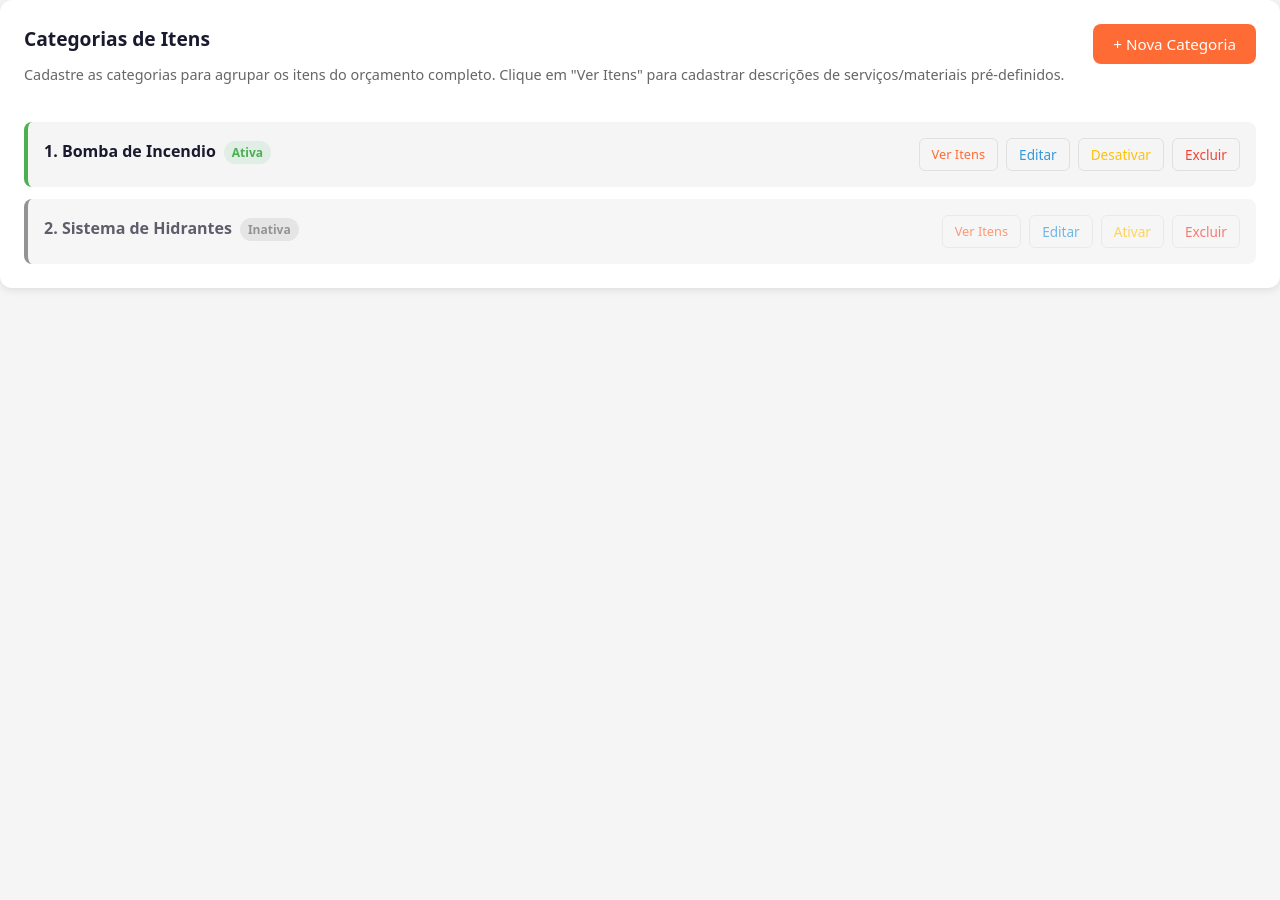
Test: CategoriasTab › Modal de categoria › deve habilitar botao cadastrar com nome valido
Step 1. Click the button "+ Nova Categoria" → {"x": 1175, "y": 44}, box x1=1093 y1=24 x2=1256 y2=64
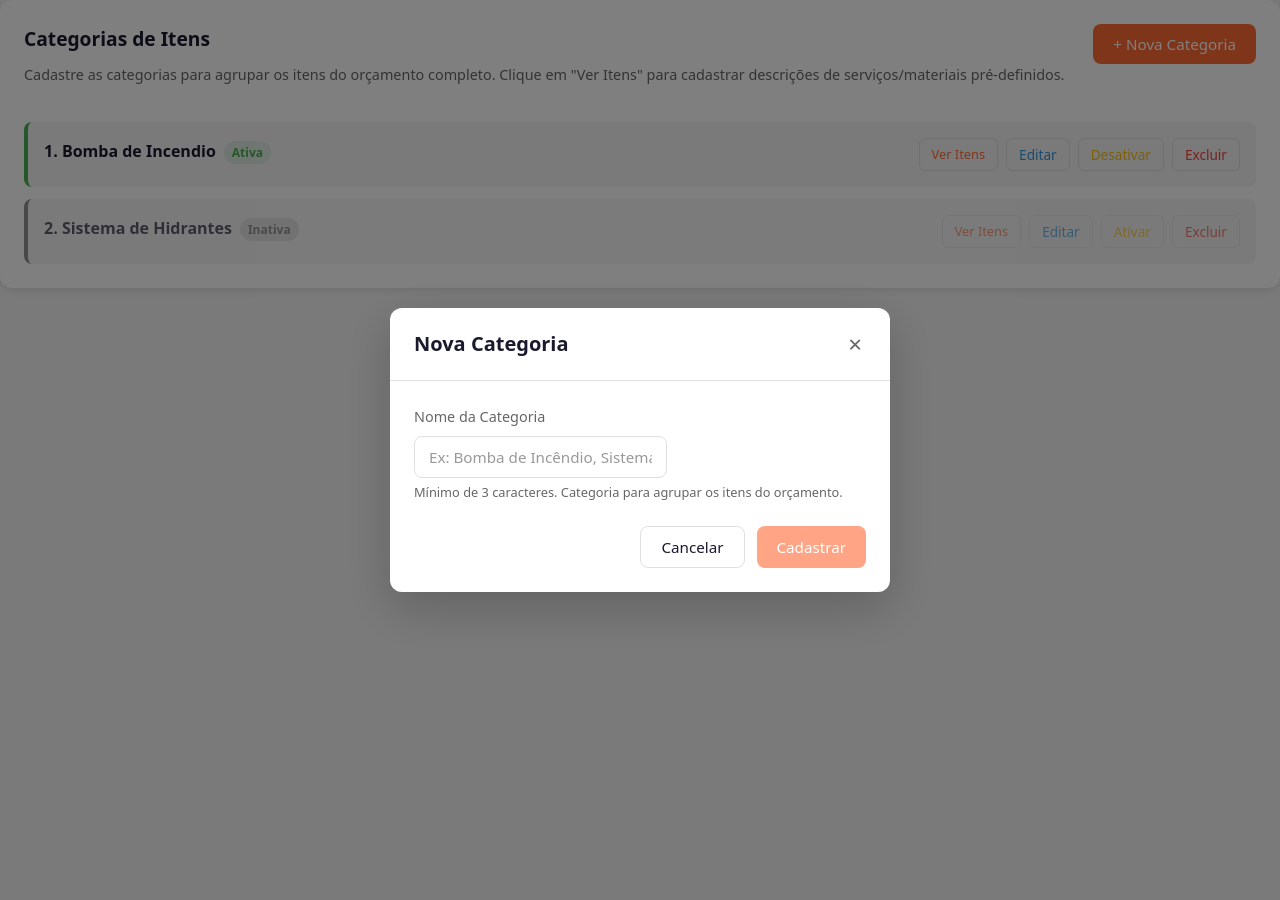
Expected: the heading "Nova Categoria" is shown, x1=414 y1=328 x2=568 y2=360
Step 2. Type "Nova Categoria Teste" into the field with placeholder "Ex: Bomba de Incêndio, Sistema de Hidrantes" → {"x": 540, "y": 457}, box x1=414 y1=436 x2=667 y2=478
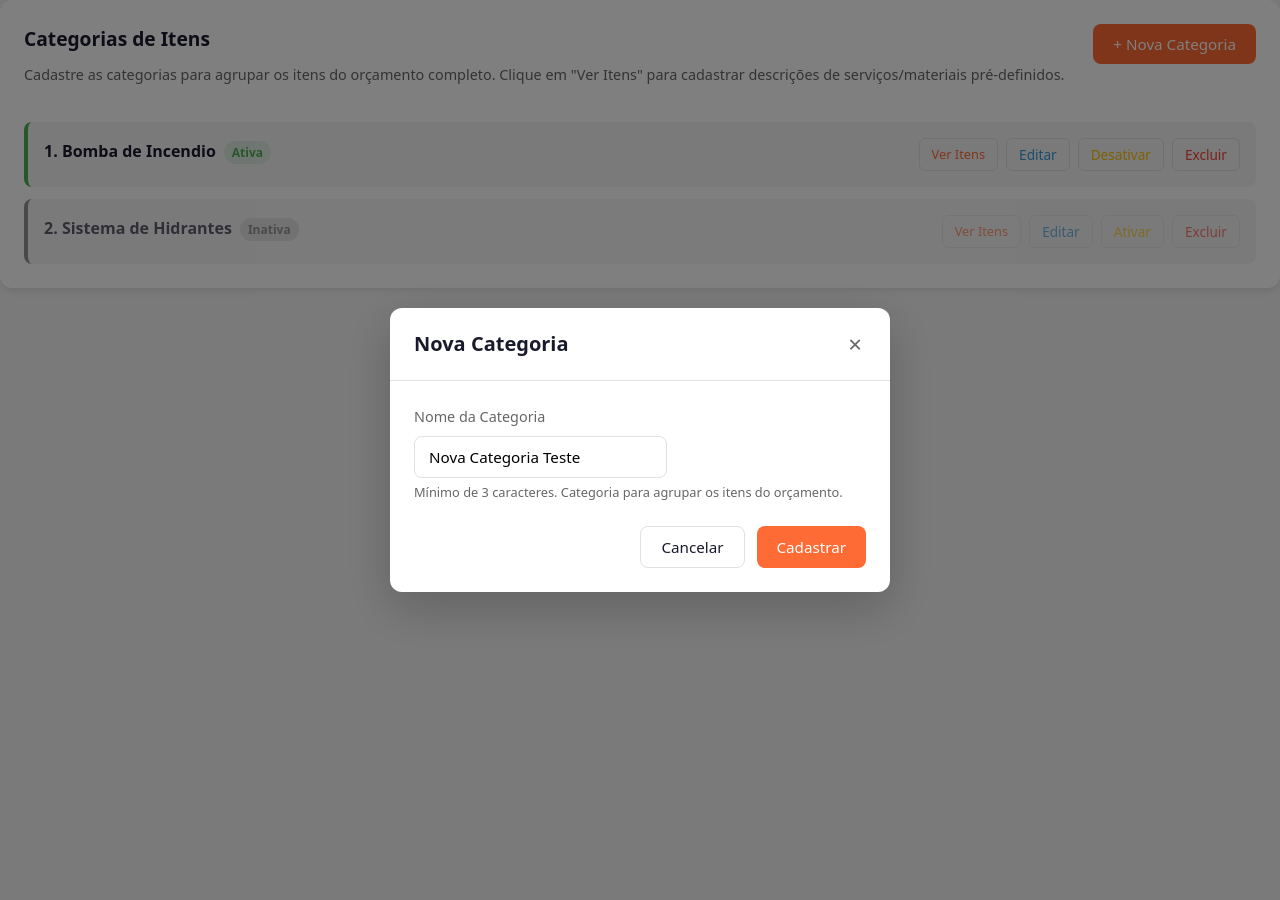
Expected: the button "Cadastrar" is enabled, x1=756 y1=526 x2=866 y2=568
